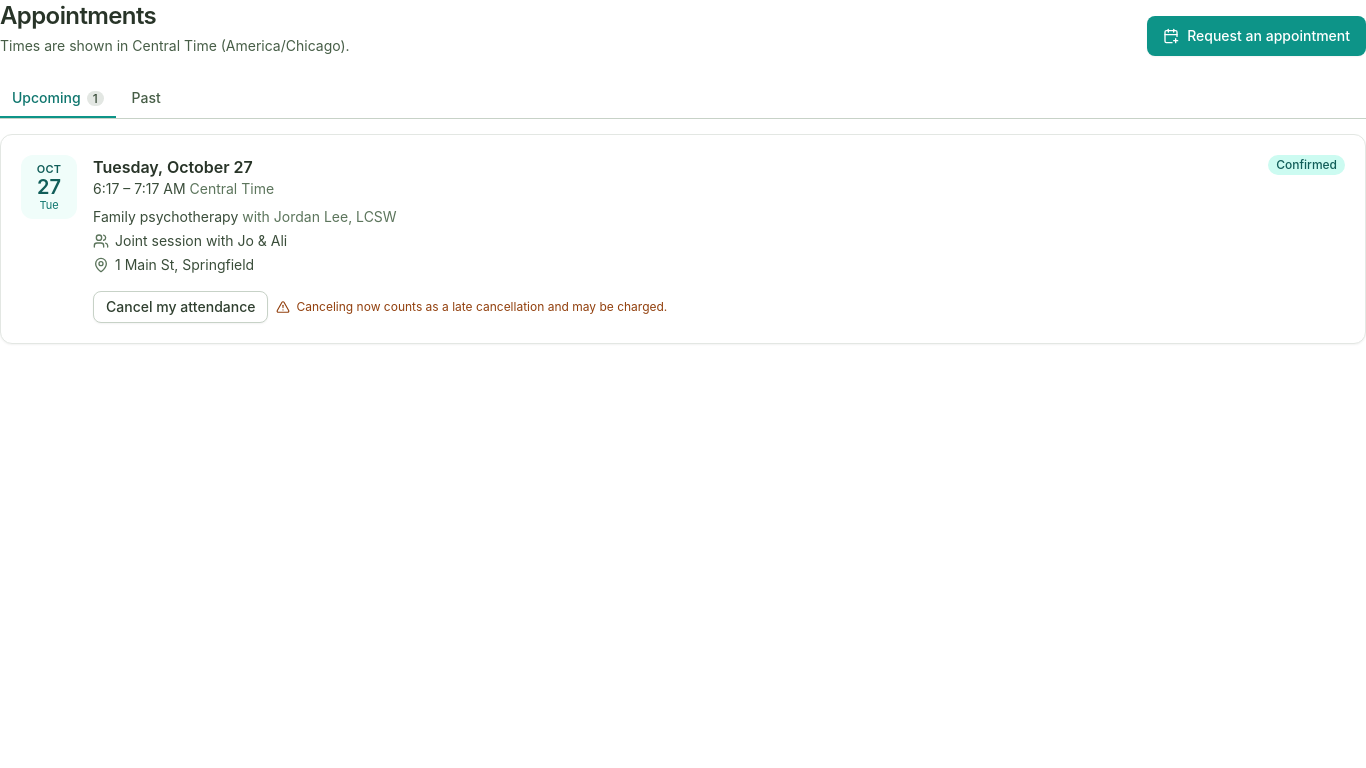
ClientAppointmentsPage › cancels only the client’s place in a shared session and warns that it is late
Expected: the text "Joint session with Jo & Ali" is shown, [93, 232, 287, 249]
Expected: the text "with Jordan Lee, LCSW" is shown, [238, 208, 397, 225]
Step 1. Click the button "Cancel my attendance" → (181, 307), box [93, 291, 268, 323]
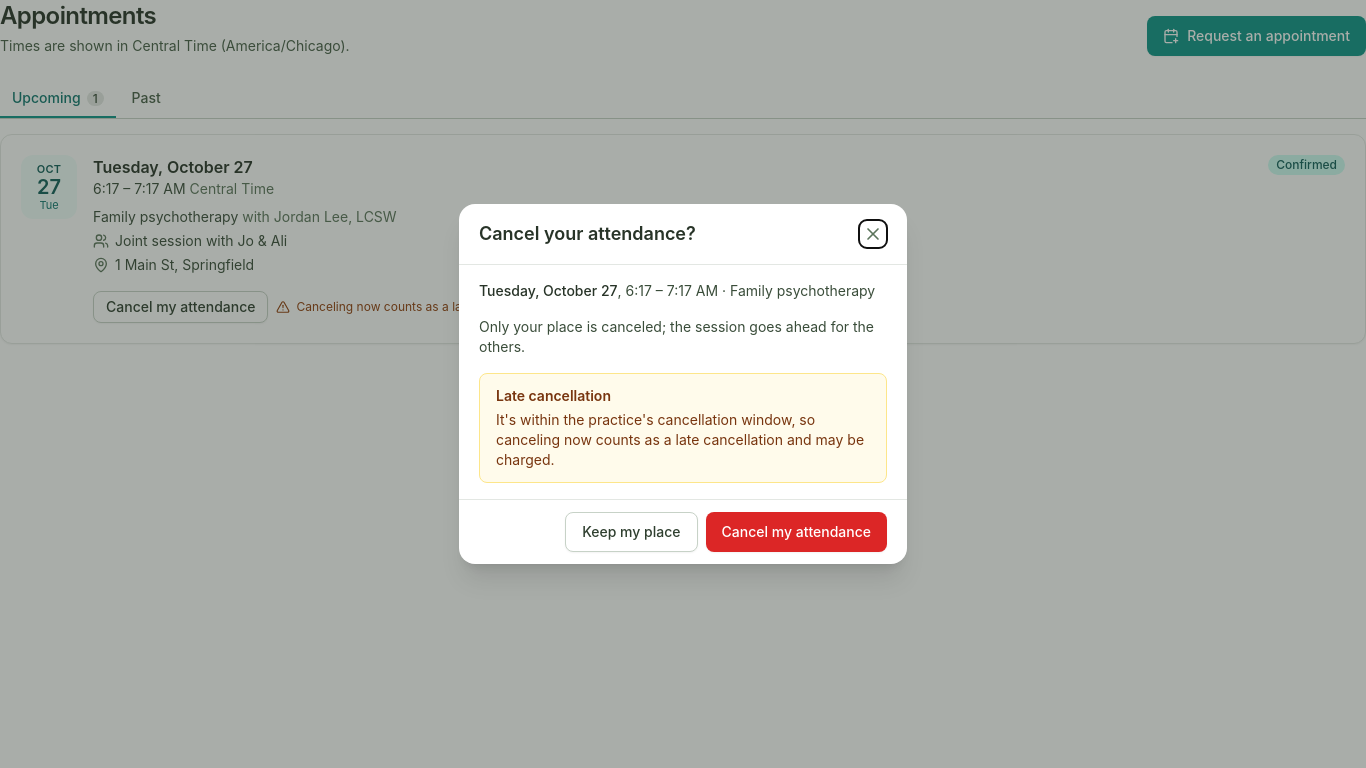
Now the text "Only your place is canceled; the session goes ahead for the others" is shown, box [479, 318, 874, 355]
Now the text "Late cancellation" is shown, box [496, 387, 611, 404]
Step 2. Click the button "Cancel my attendance" → (796, 532), box [706, 512, 887, 552]
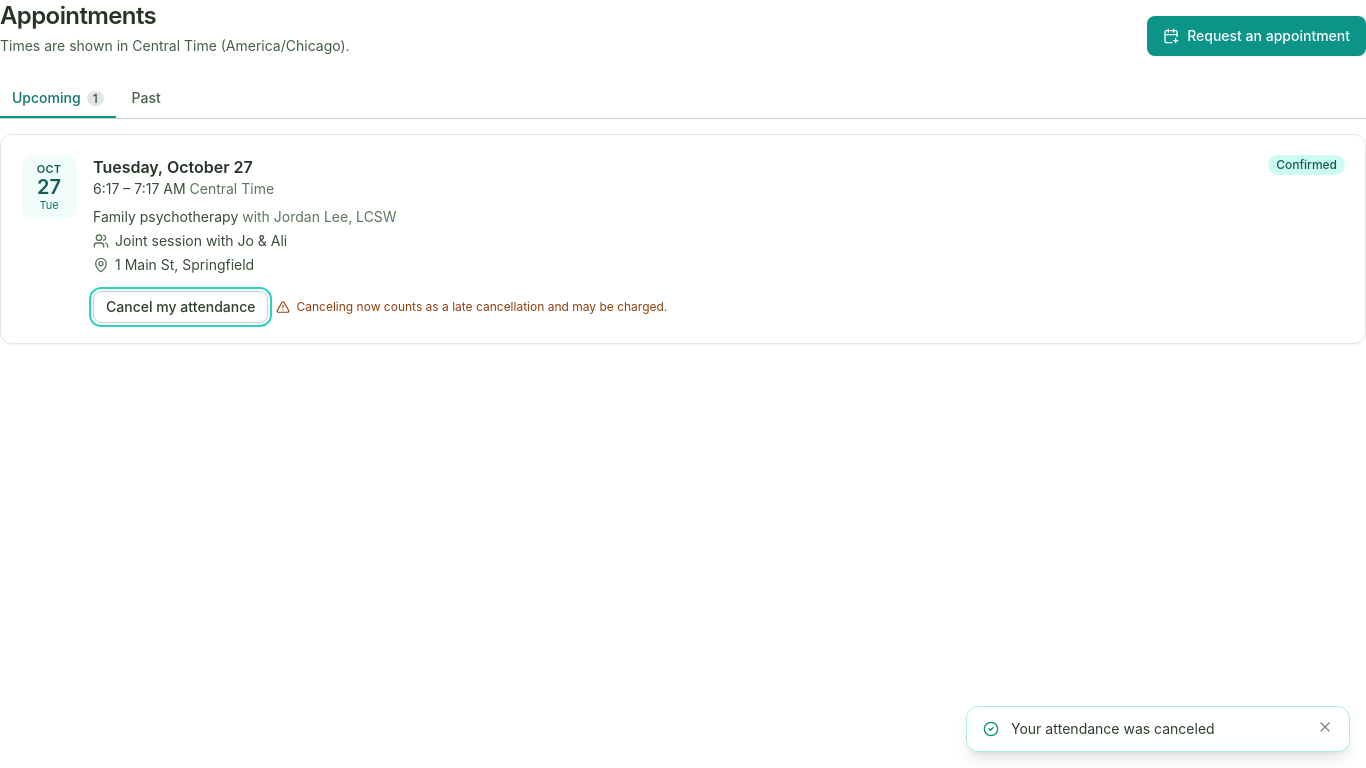
Now the text "Your attendance was canceled" is shown, box [1011, 720, 1215, 737]
